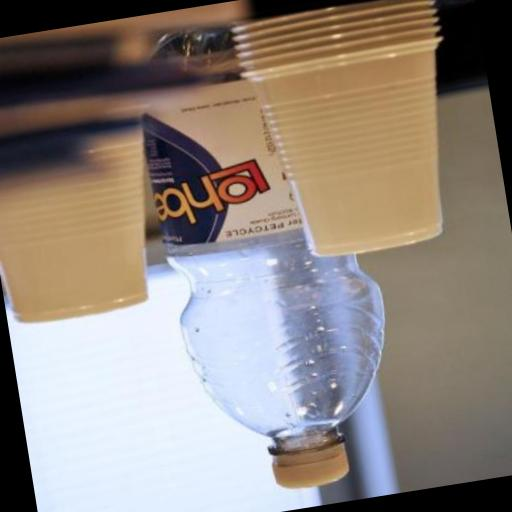Coca: (111, 1, 424, 512)
